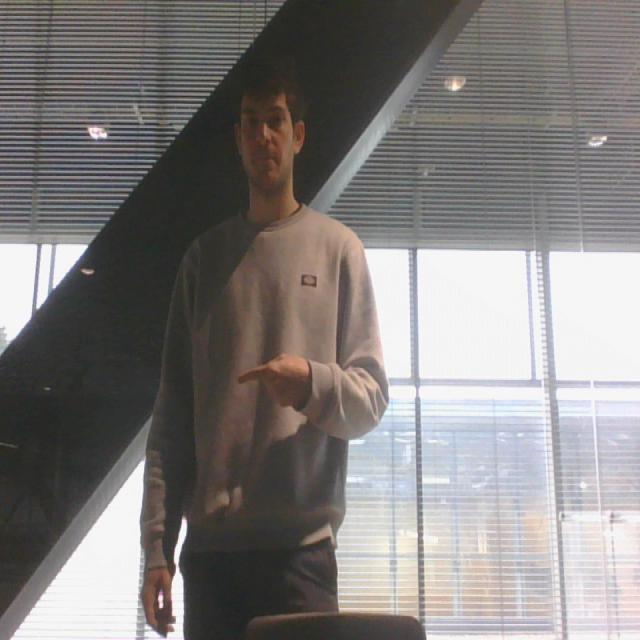left: (234, 346, 312, 416)
